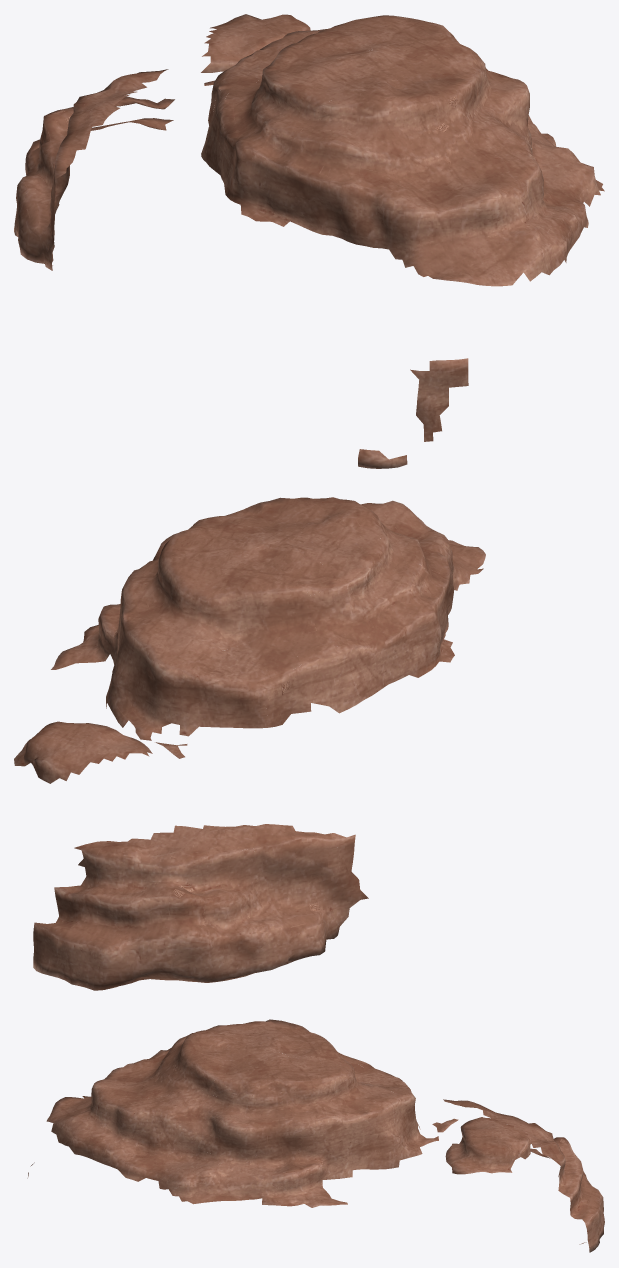
Rendered from scene-small-cut.glb.
3 renders of one model, top to bottom at view 1: azimuth 30°, elevation 25°; view 2: azimuth 150°, elevation 25°; view 3: azimuth 270°, elevation 25°, orthographic. The views are drawn at different scales.
Visible parts, largest first — view 1: P11DesertCliff-High; view 2: P11DesertCliff-High; view 3: P11DesertCliff-High.
Part boxes in pixels (left/top/right/bottom): P11DesertCliff-High: left=14, top=14, right=604, bottom=468; P11DesertCliff-High: left=14, top=497, right=485, bottom=990; P11DesertCliff-High: left=27, top=1019, right=604, bottom=1252.
Bounding box in the file's own units: 1132 × 811 × 2066.
1 material, 1 textured.
